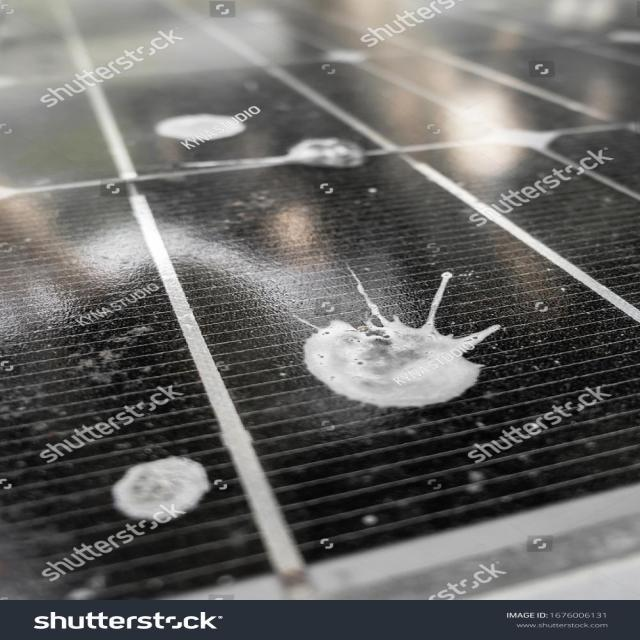soiled: (9, 70, 640, 602)
